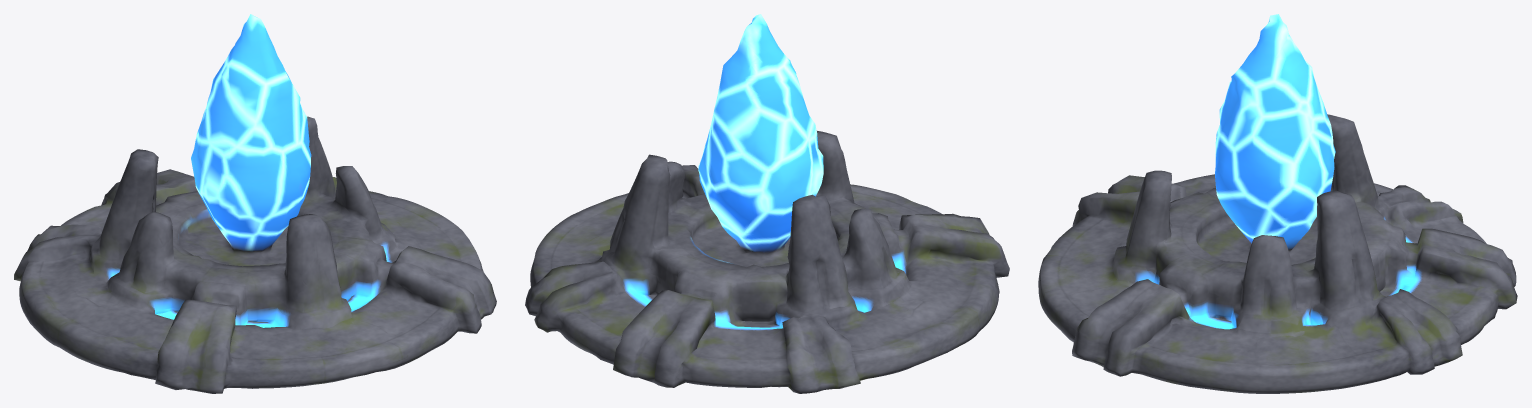
Rendered from beacon.fbx.
3 views of the same model, side by side, from view 1: azimuth 30°, elevation 25°; view 2: azimuth 150°, elevation 25°; view 3: azimuth 270°, elevation 25° (orthographic).
Visible parts, largest first — view 1: beacon_LOW; view 2: beacon_LOW; view 3: beacon_LOW.
Part boxes in pixels (left/top/right/bottom): beacon_LOW: left=14, top=14, right=496, bottom=393; beacon_LOW: left=525, top=14, right=1009, bottom=393; beacon_LOW: left=1038, top=14, right=1517, bottom=393.
Bounding box in the file's own units: 97.92 × 63.6 × 97.59.
Materials: 1 (1 with a texture image).
